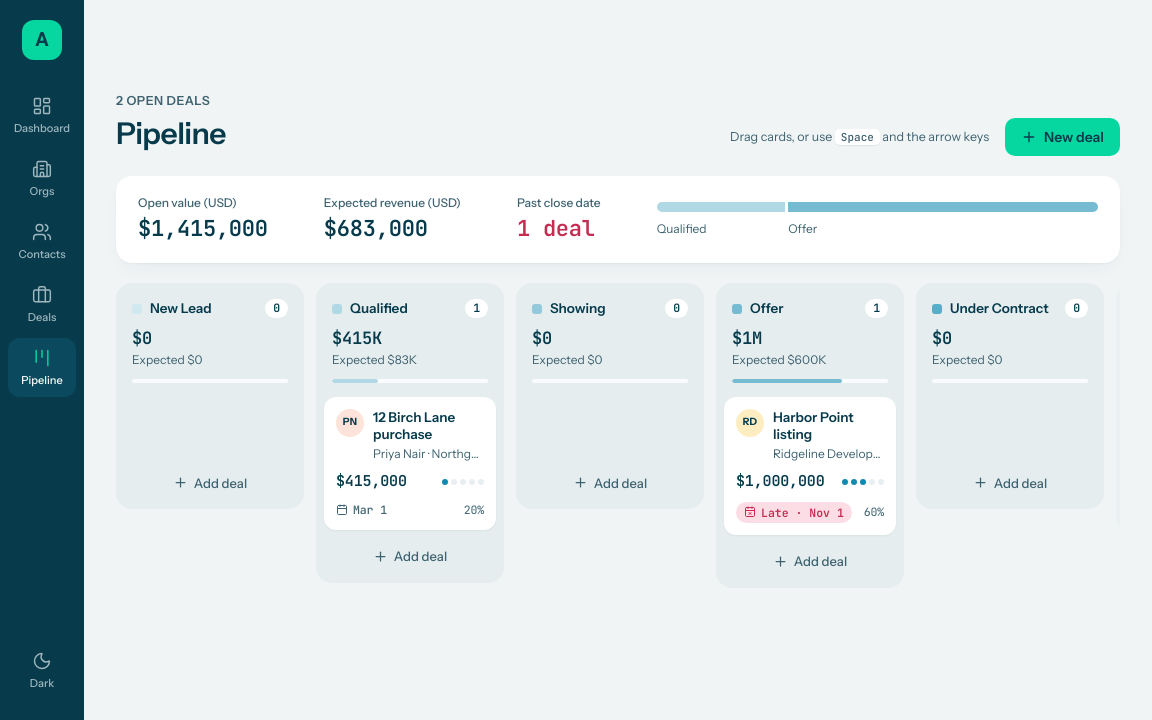
Test: Pipeline page › adds a deal to the column whose Add deal was pressed, or to New Lead from the header
Click the button with aria-label "Add deal to Offer".
click(810, 561)  # box [724,543,896,580]
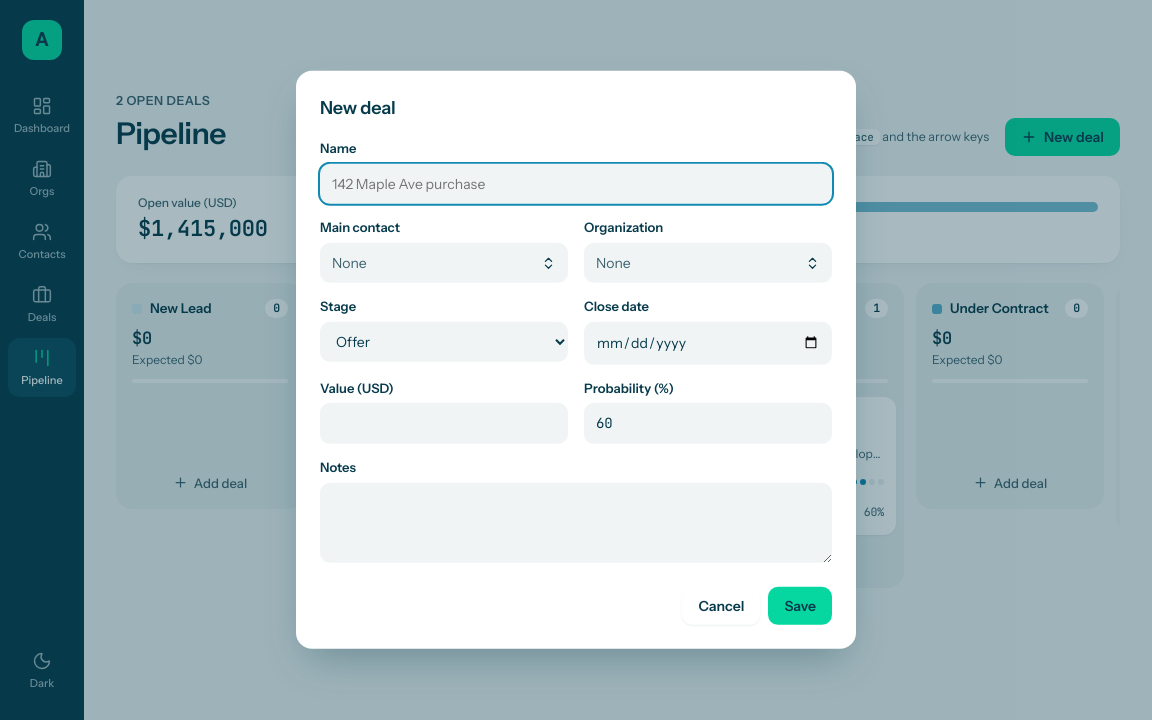
Now the dropdown labelled "Stage" shows "Offer", box [320,322,568,362]
Click the button "Cancel".
click(721, 606)  # box [682,587,760,625]
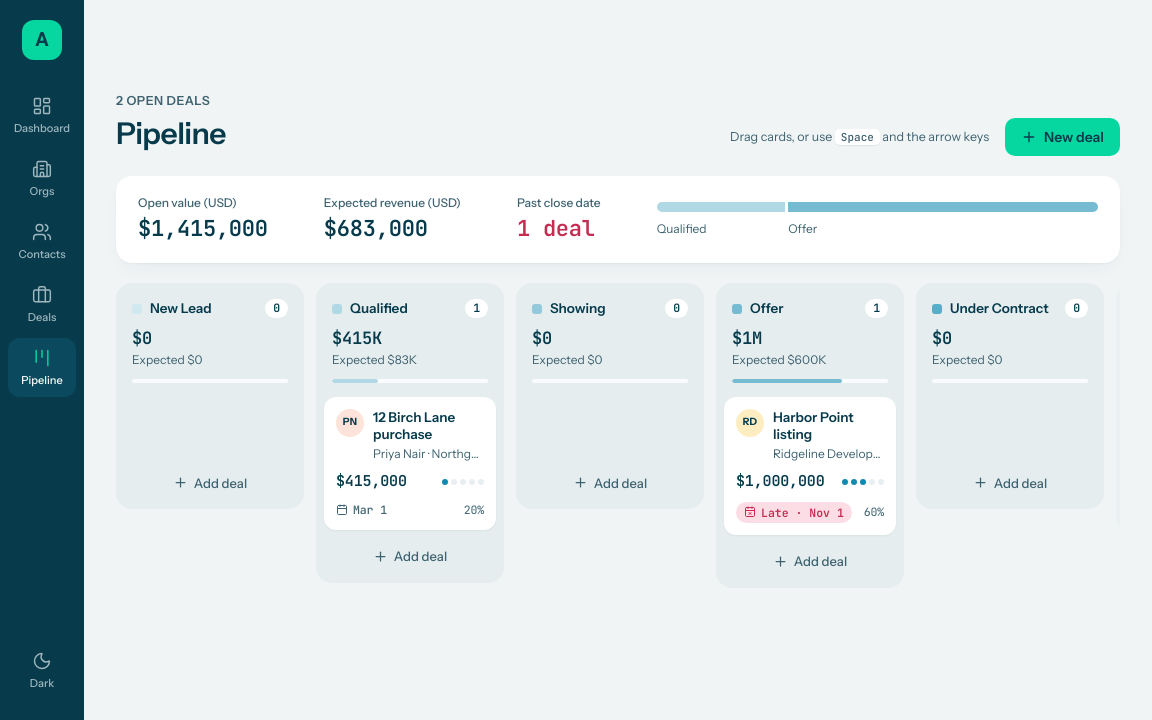
Now the dialog is gone
Click the button "New deal".
click(1063, 137)  # box [1005,118,1120,156]
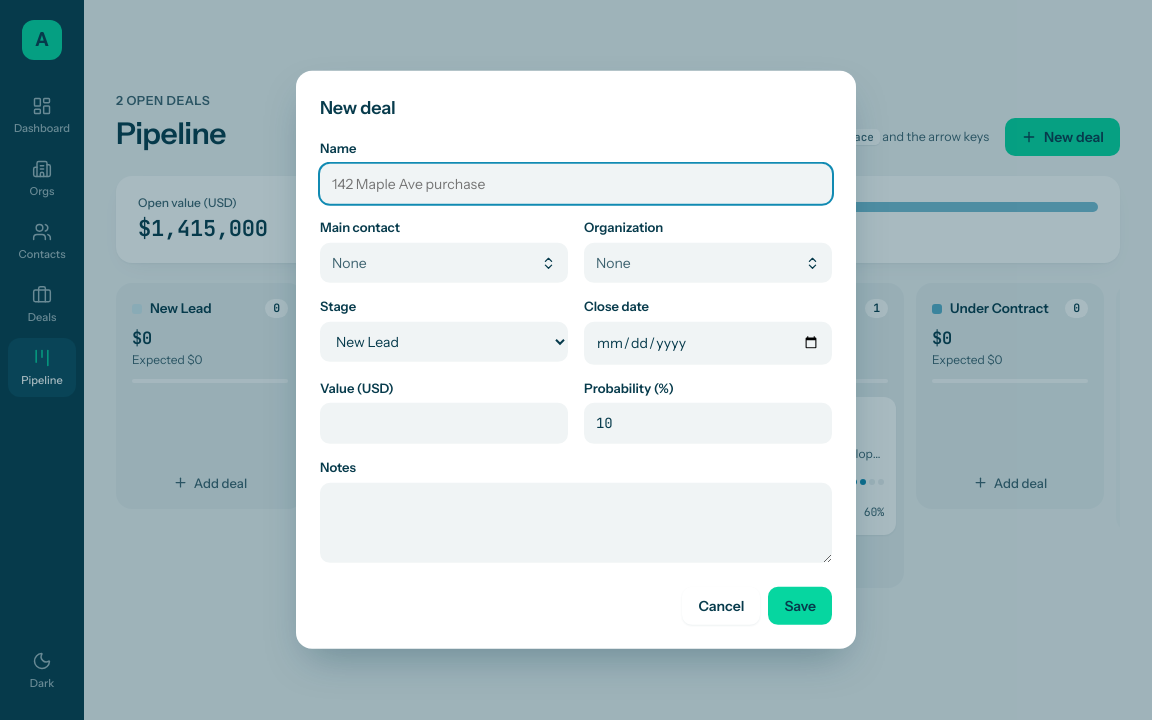
Now the dropdown labelled "Stage" shows "New Lead", box [320,322,568,362]
